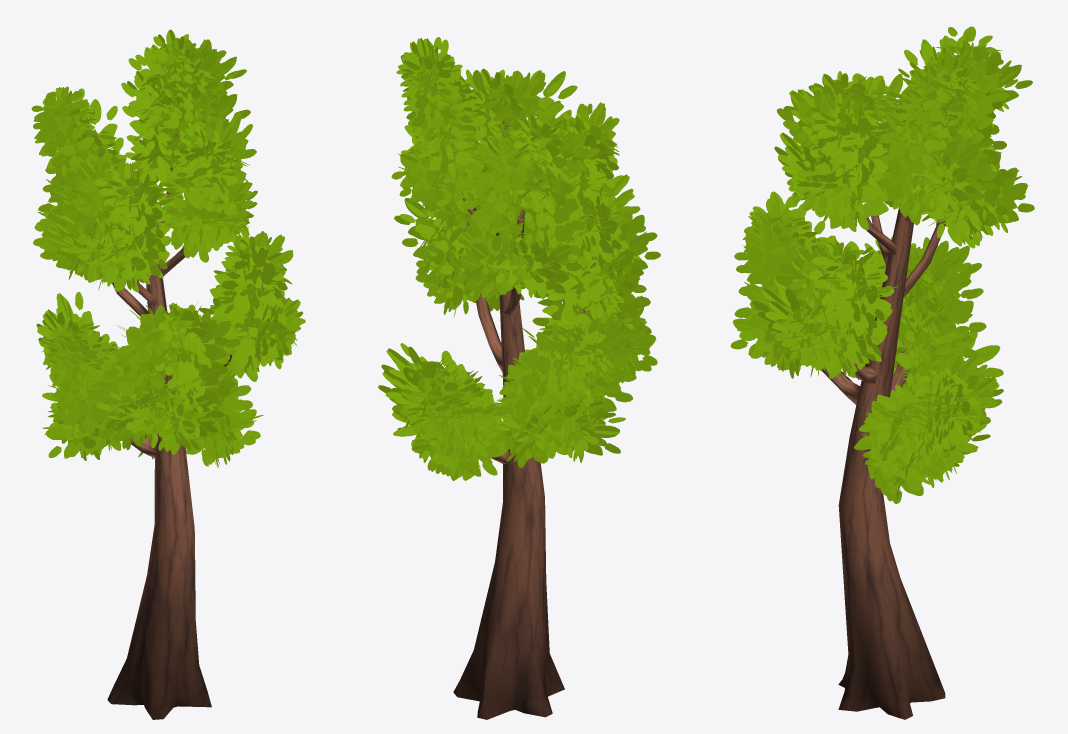
The model's file is CommonTree_3.glb.
3 renders of one model, left to right at view 1: azimuth 30°, elevation 25°; view 2: azimuth 150°, elevation 25°; view 3: azimuth 270°, elevation 25°, orthographic. The views are drawn at different scales.
Bounding box in the file's own units: 4.06 × 9.43 × 4.24.
2 materials, 2 textured.
